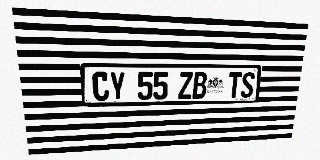5: (138, 72, 153, 100), (153, 72, 168, 100)
B: (192, 72, 207, 99)
C: (92, 72, 109, 101)
S: (240, 72, 255, 98)
T: (227, 72, 242, 98)
Y: (109, 72, 125, 101)
Z: (178, 72, 193, 99)
